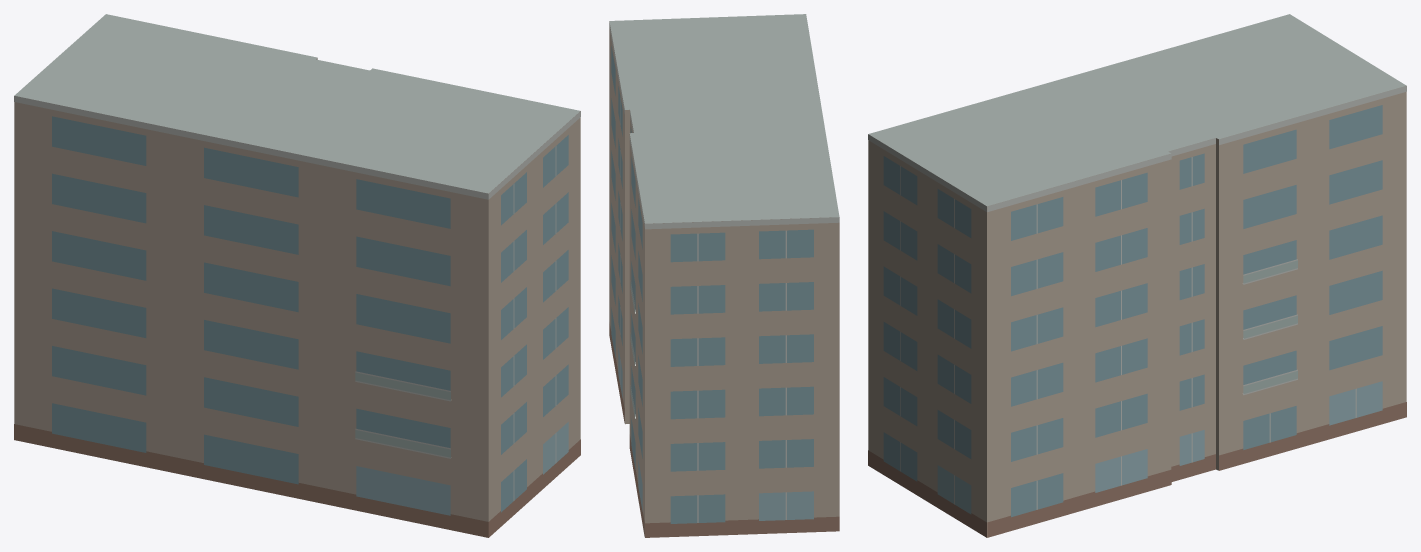
Rendered from survey-upis-32951750.glb.
3 views of the same model, side by side, from view 1: azimuth 30°, elevation 25°; view 2: azimuth 150°, elevation 25°; view 3: azimuth 270°, elevation 25° (orthographic). The views are drawn at different scales.
Parts seen in each view (by area): view 1: survey-upis-32951750.tmp; view 2: survey-upis-32951750.tmp; view 3: survey-upis-32951750.tmp.
Boxes of the visible parts, x1,y1,x2,y2 form: survey-upis-32951750.tmp: [14, 14, 580, 537]; survey-upis-32951750.tmp: [609, 14, 839, 537]; survey-upis-32951750.tmp: [868, 14, 1406, 537].
Size of the model in its own units: 16.87 by 13.55 by 19.96.
